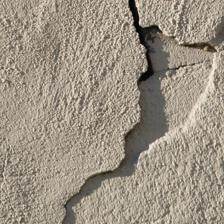Crack: (74, 60, 224, 113), (54, 95, 165, 123)
